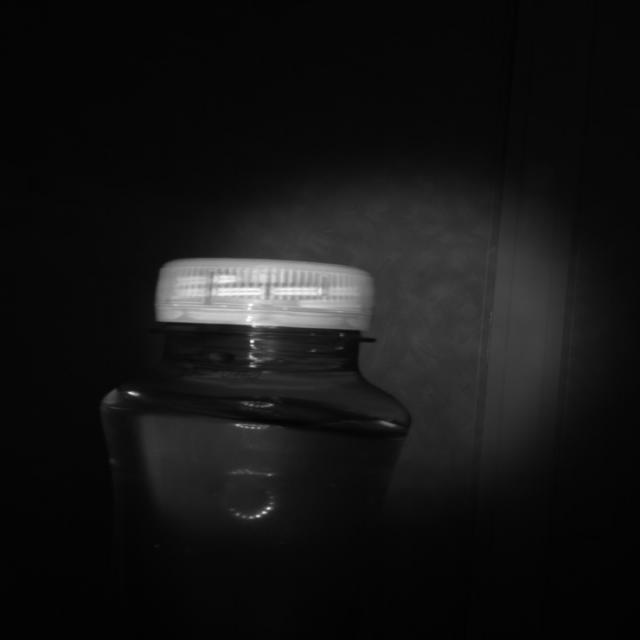Good: (154, 256, 376, 332)
